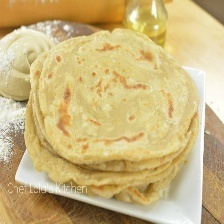roti: (24, 29, 200, 207)
